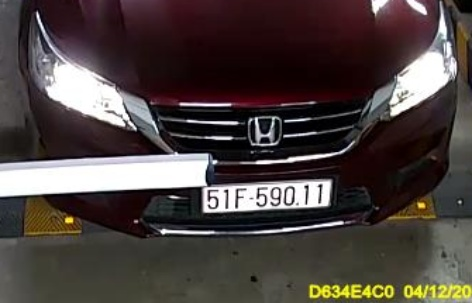plate: (201, 181, 333, 212)
